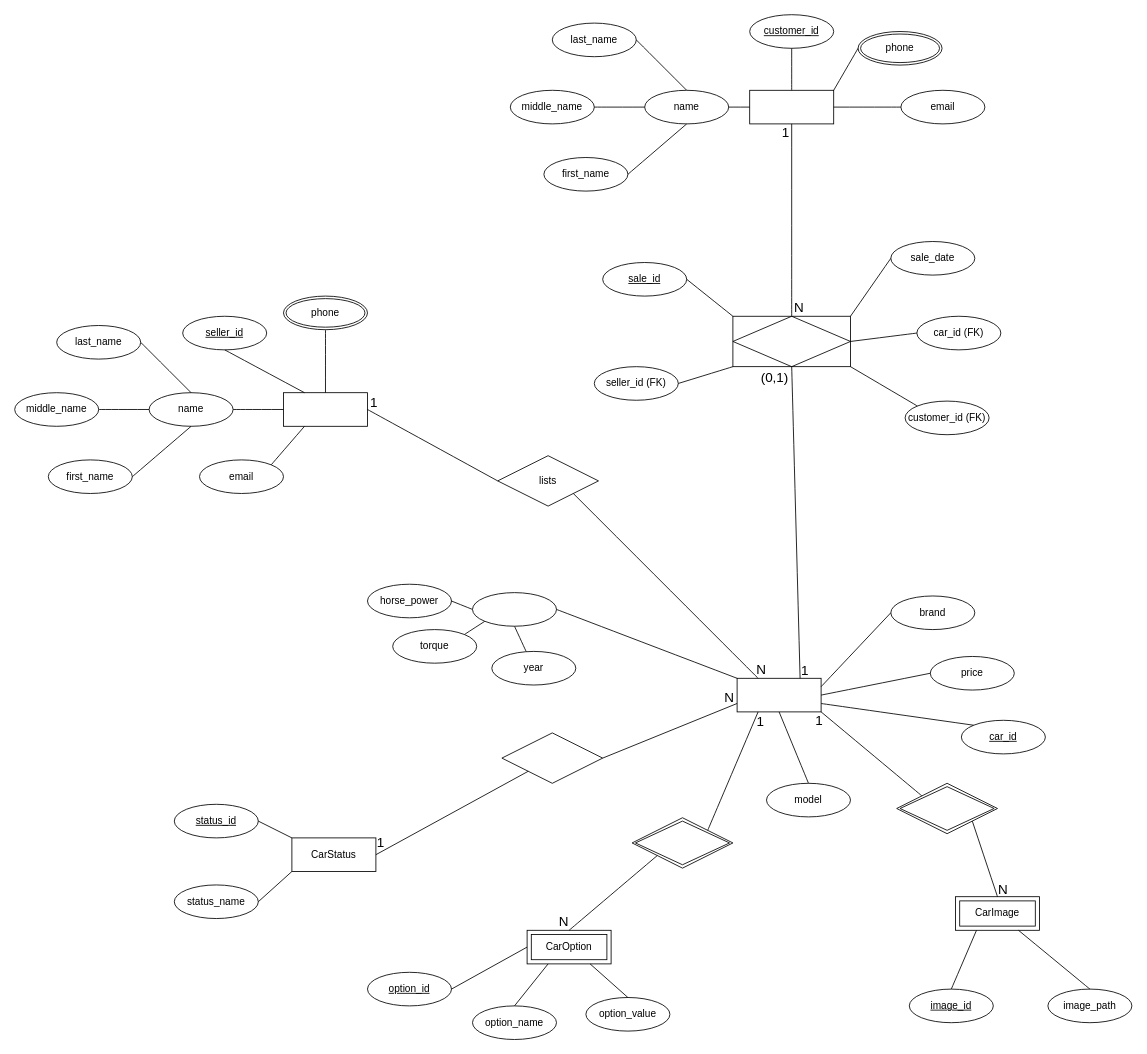
The diagram is 1147 pixels wide and 1054 high, and some of its shapes have lost their labels. The shapes that lost their labels are listed below. From the top down, each one's box as (x1, y1, x2, y2) in pixels, then its label:
(749, 89, 834, 124): Customer
(732, 315, 850, 367): Sale
(283, 392, 368, 426): Seller
(472, 592, 556, 626): technic
(736, 677, 821, 712): Car
(501, 732, 603, 783): hasStatus
(896, 782, 998, 834): HasImage
(631, 817, 733, 868): HasOption
